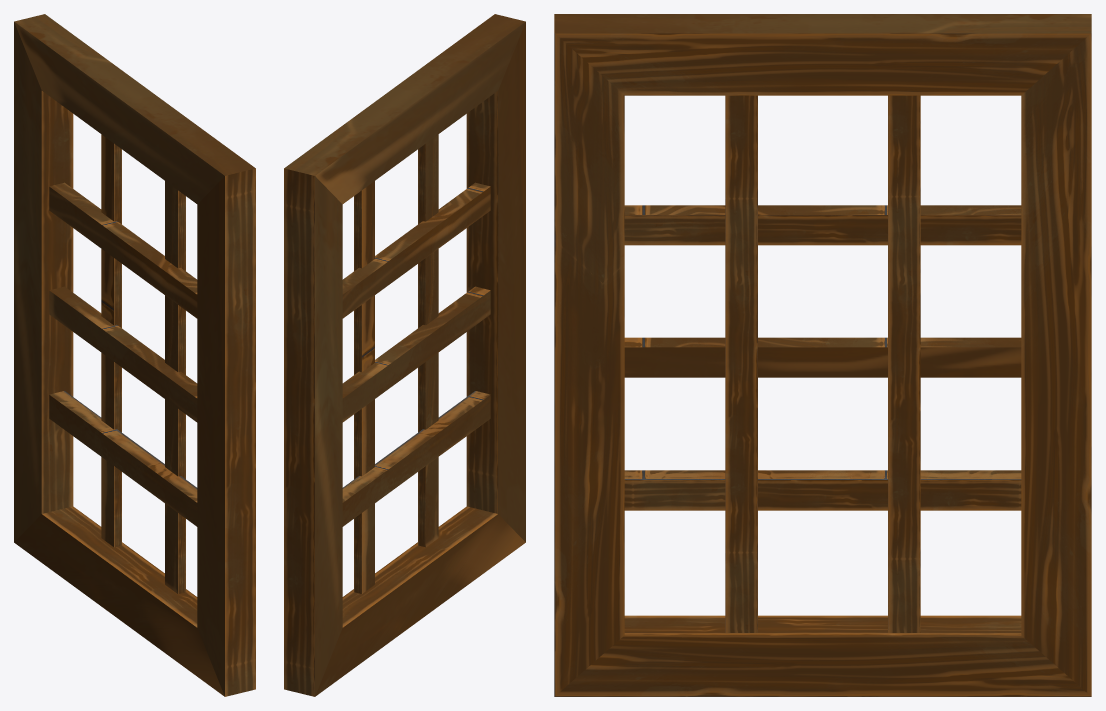
3 views of the same model, side by side, from view 1: azimuth 30°, elevation 25°; view 2: azimuth 150°, elevation 25°; view 3: azimuth 270°, elevation 25° (orthographic). The views are drawn at different scales.
Parts seen in each view (by area): view 1: 4x6.044; view 2: 4x6.044; view 3: 4x6.044.
Part boxes in pixels (box(x1,y1,x2,y2)): 4x6.044: box(14, 14, 255, 696); 4x6.044: box(284, 14, 525, 696); 4x6.044: box(554, 14, 1091, 696).
Size of the model in its own units: 12.73 by 201 by 148.
1 material, 1 textured.
